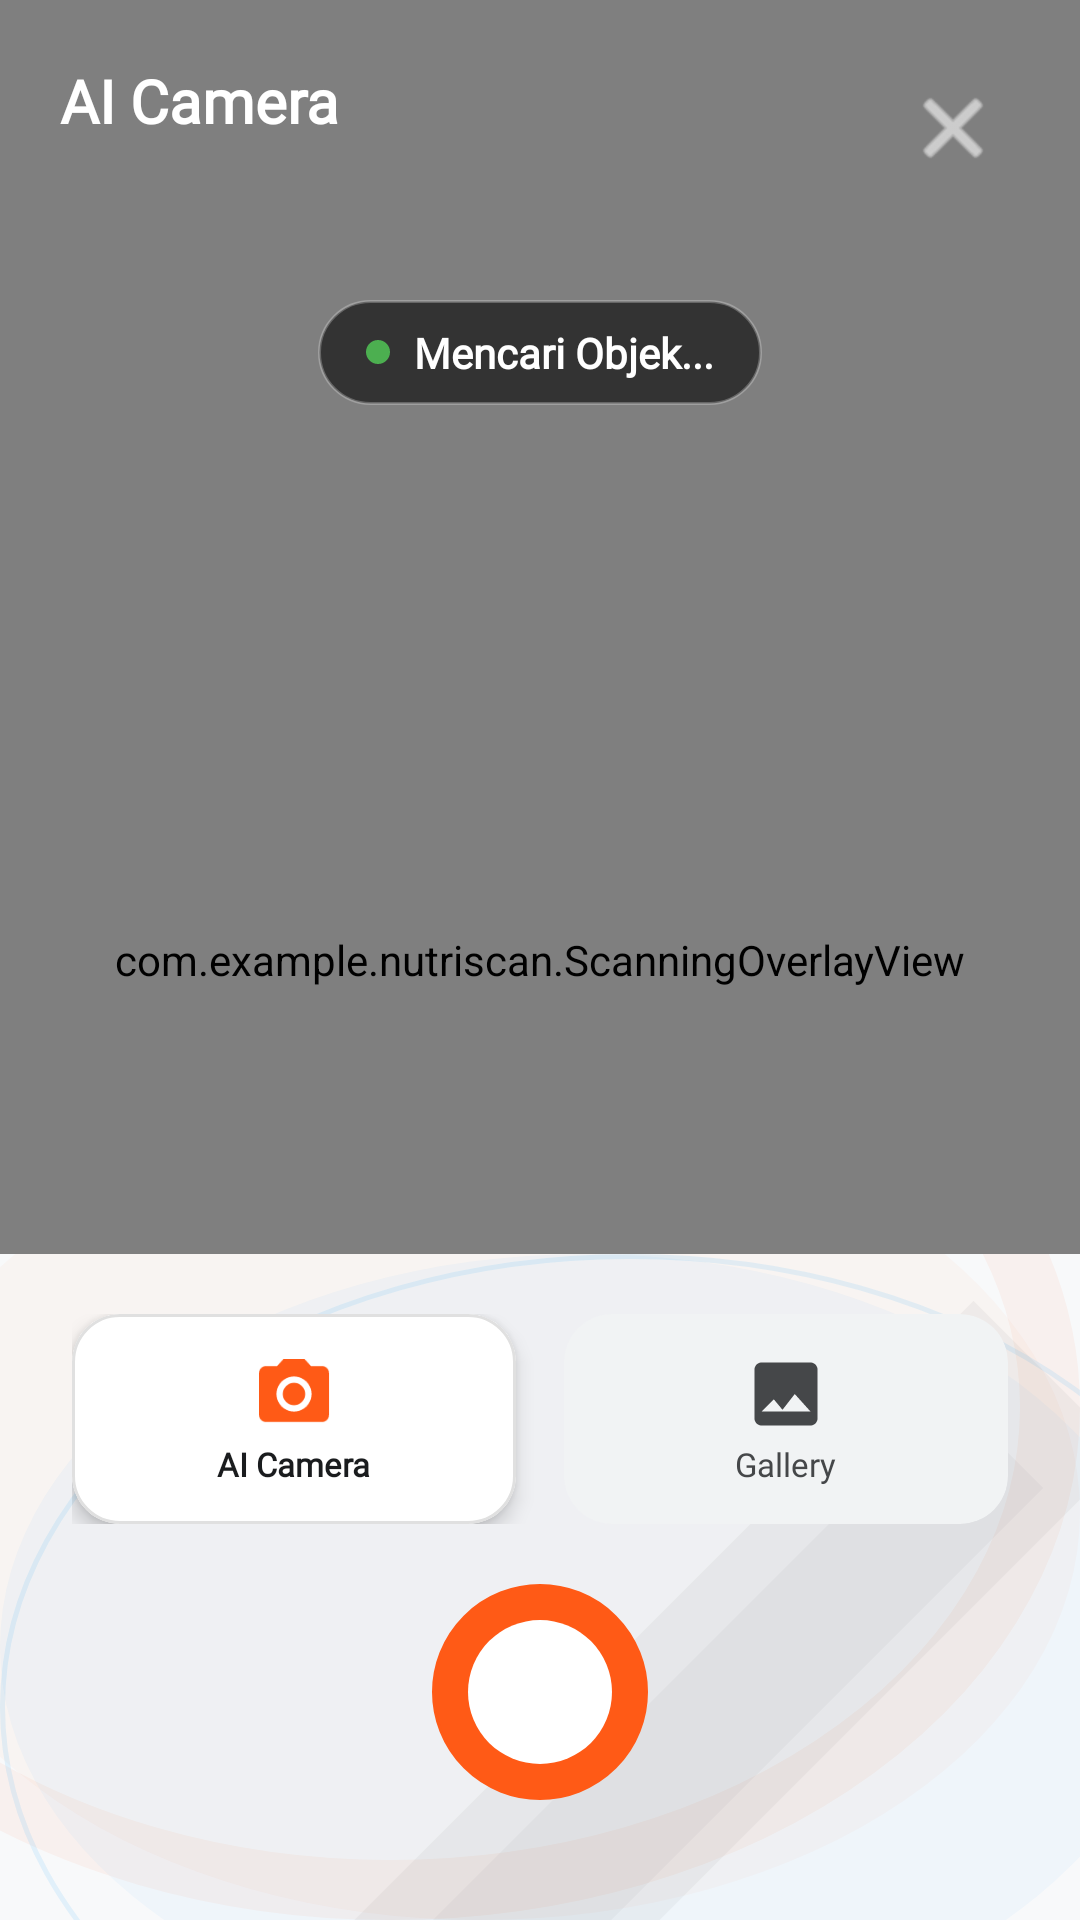

Icon click points for this 1080px x 1920px phone screenshot, format [x,y]:
Ambil Foto: [540,1692]
Tutup Kamera: [953,128]
